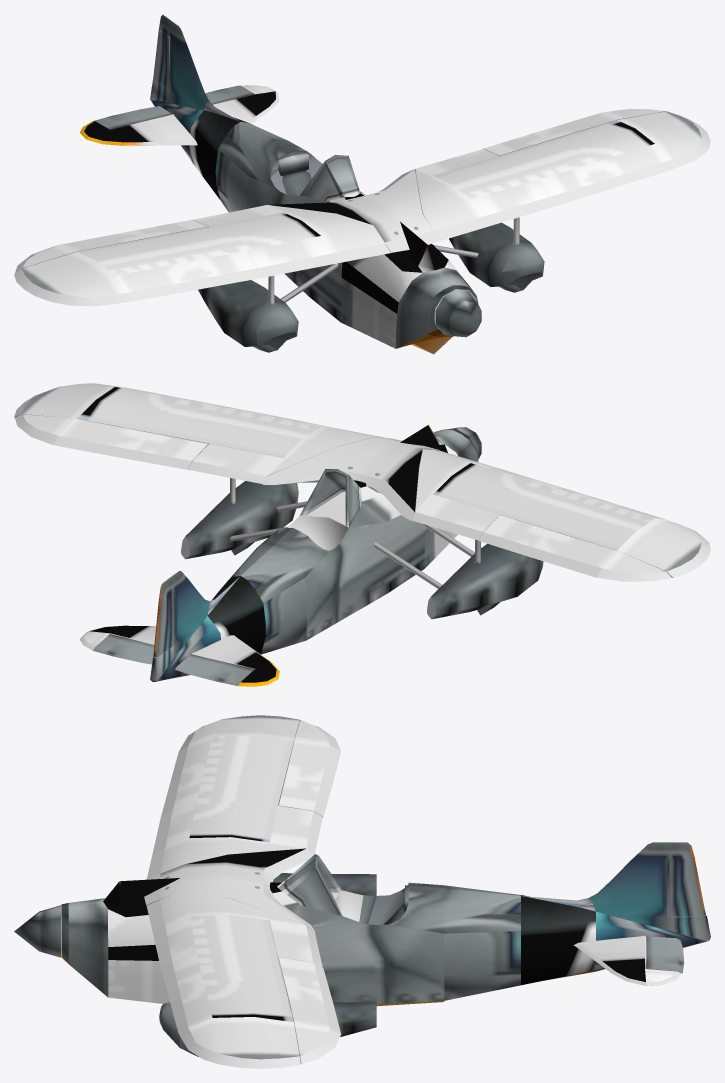
3 views of the same model, one above another, from view 1: azimuth 30°, elevation 25°; view 2: azimuth 150°, elevation 25°; view 3: azimuth 270°, elevation 25° (orthographic). The views are drawn at different scales.
Visible parts, largest first — view 1: WS2_pln_plane; view 2: WS2_pln_plane; view 3: WS2_pln_plane.
Part boxes in pixels (x1,y1,x2,y2): WS2_pln_plane: [14, 14, 710, 354]; WS2_pln_plane: [14, 383, 710, 686]; WS2_pln_plane: [14, 715, 710, 1068].
Size of the model in its own units: 64.93 by 14.56 by 54.35.
1 material, 1 textured.
